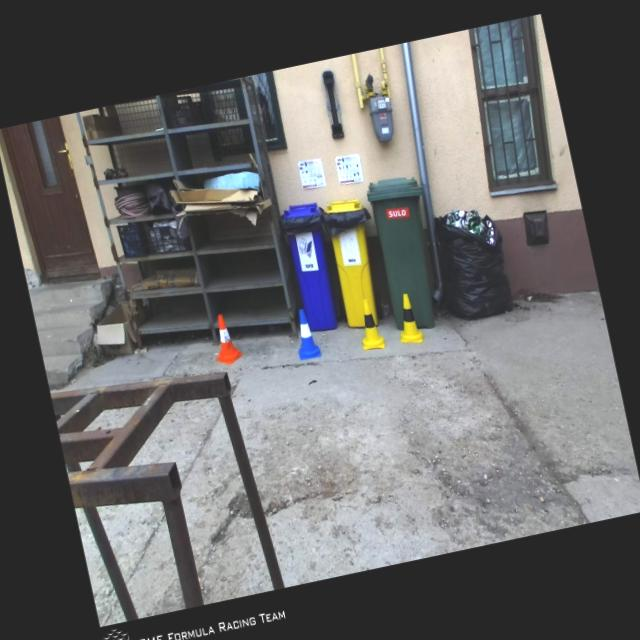blue_cone: (290, 307, 322, 360)
orange_cone: (207, 311, 244, 367)
yellow_cone: (390, 292, 424, 346), (354, 298, 386, 352)
